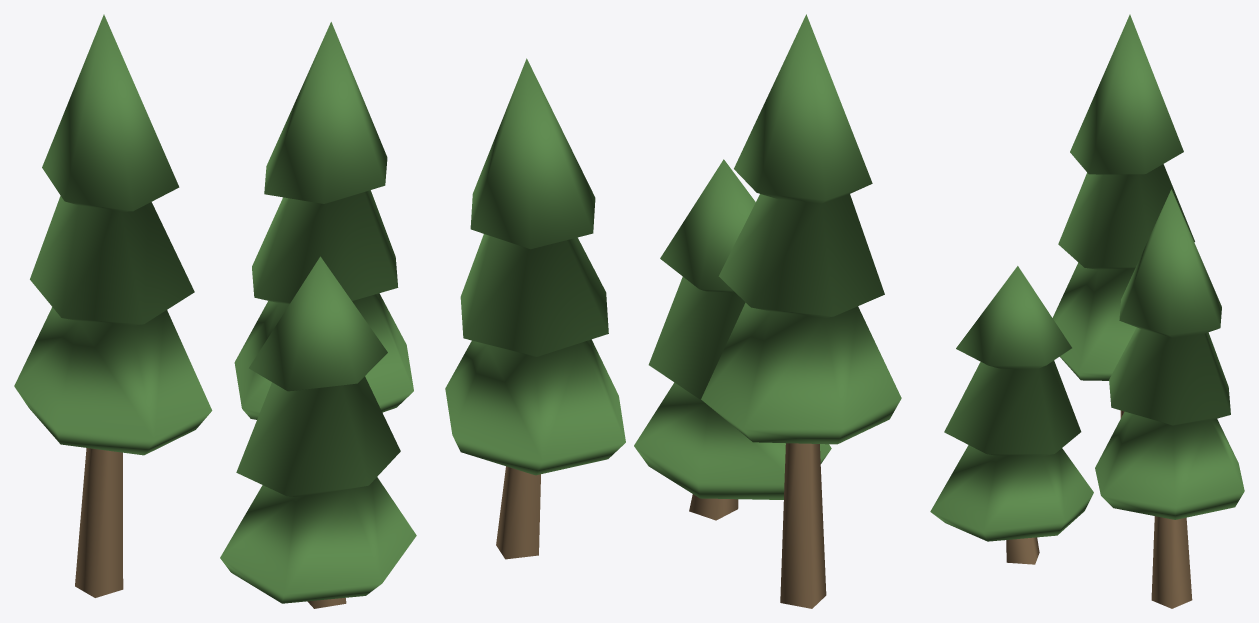
File: rpgpp_ag_trees_background_02a.fbx
The picture shows the model from 3 angles, left to right: view 1: azimuth 30°, elevation 25°; view 2: azimuth 150°, elevation 25°; view 3: azimuth 270°, elevation 25°; orthographic projection. The views are drawn at different scales.
Parts seen in each view (by area): view 1: rpgpp_ag_trees_background_02a; view 2: rpgpp_ag_trees_background_02a; view 3: rpgpp_ag_trees_background_02a.
Part boxes in pixels (<box>): rpgpp_ag_trees_background_02a: <box>14,14,416,608</box>; rpgpp_ag_trees_background_02a: <box>445,14,901,608</box>; rpgpp_ag_trees_background_02a: <box>930,14,1244,608</box>.
Bounding box in the file's own units: 7.09 × 9.73 × 5.77.
